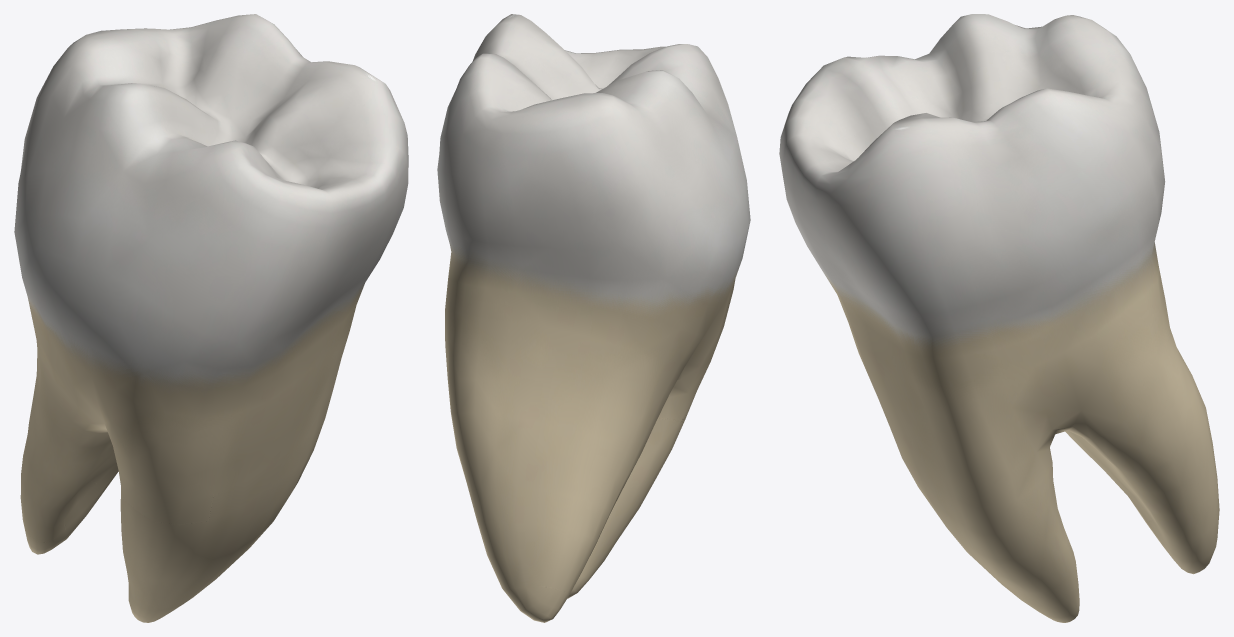
The model's file is tooth-46.glb.
The picture shows the model from 3 angles, left to right: view 1: azimuth 30°, elevation 25°; view 2: azimuth 150°, elevation 25°; view 3: azimuth 270°, elevation 25°; orthographic projection. The views are drawn at different scales.
Visible parts, largest first — view 1: ZBrushPolyMesh3D2_Mandible_blinn10_0; view 2: ZBrushPolyMesh3D2_Mandible_blinn10_0; view 3: ZBrushPolyMesh3D2_Mandible_blinn10_0.
Part boxes in pixels (<box>): ZBrushPolyMesh3D2_Mandible_blinn10_0: <box>14,14,408,622</box>; ZBrushPolyMesh3D2_Mandible_blinn10_0: <box>437,14,750,622</box>; ZBrushPolyMesh3D2_Mandible_blinn10_0: <box>779,14,1219,622</box>.
Bounding box in the file's own units: 0.3882 × 0.6708 × 0.4619.
Materials: 1 (1 with a texture image).
